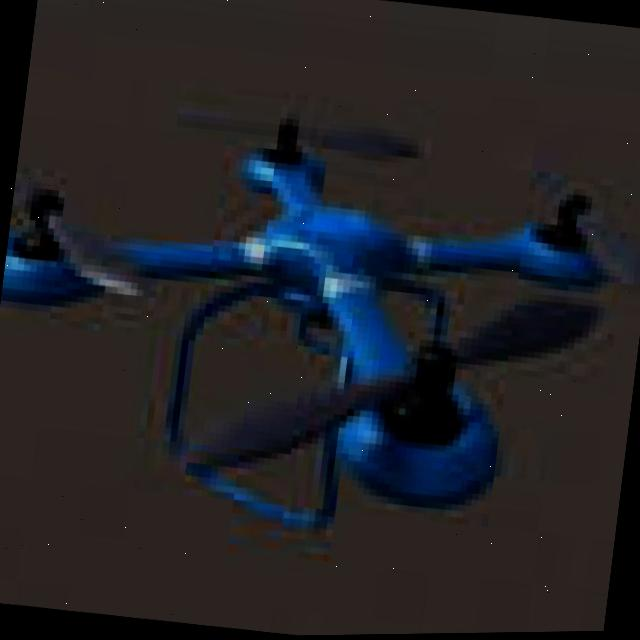drone: (0, 51, 640, 597)
